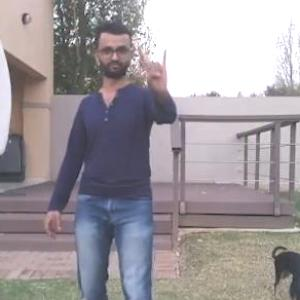takeoff-hand: (134, 38, 179, 95)
